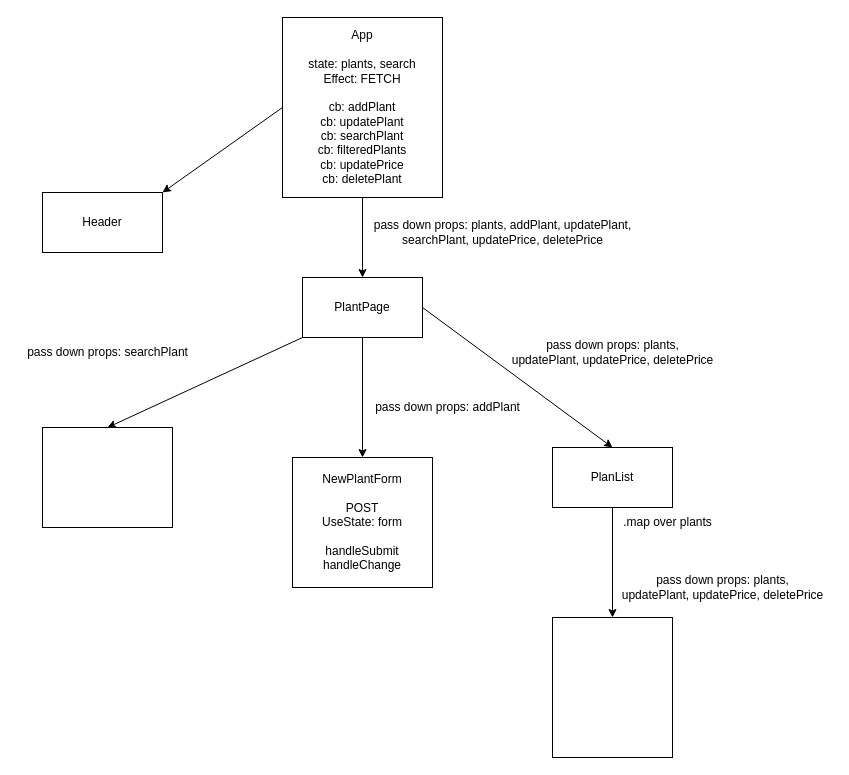
Some shapes in this 849 by 775 pixel diagram are drawn without their labels. Here are the shapes that lost their labels. From the top down, the centre of each, then its label:
At point 107,477: "Search state: form handleSubmit handleChange".
At point 612,687: "PlantCard state: price PATCH & DELETE onClick: handleStock, handlePrice".
